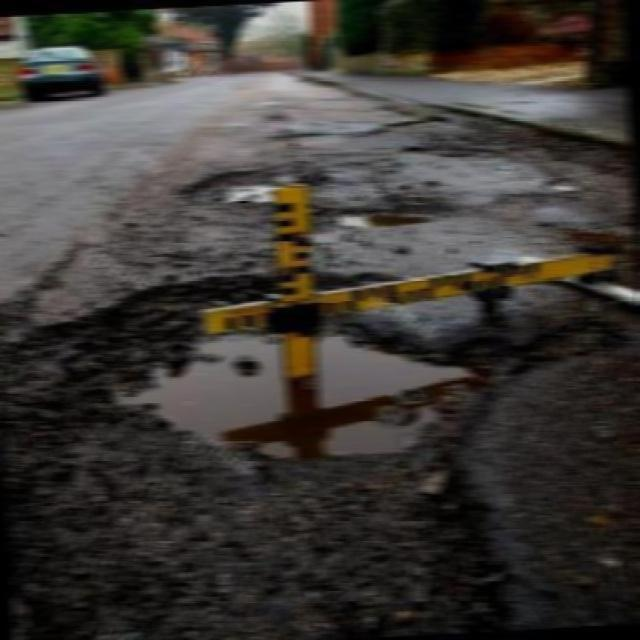Pothole: (56, 270, 625, 473), (400, 136, 588, 206), (175, 159, 330, 229), (324, 197, 442, 231)
